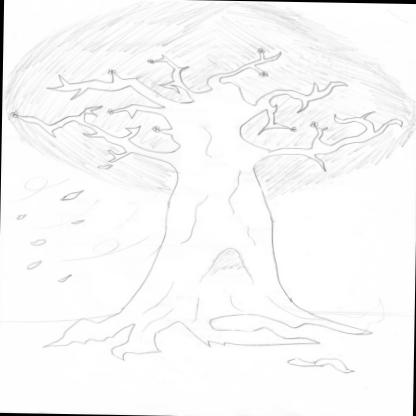branch_sharp: (15, 44, 404, 173)
crown_mushroom: (3, 0, 416, 199)
knot: (200, 249, 254, 278)
root_upside: (44, 298, 374, 374)
trunk_bark: (141, 185, 290, 294)
